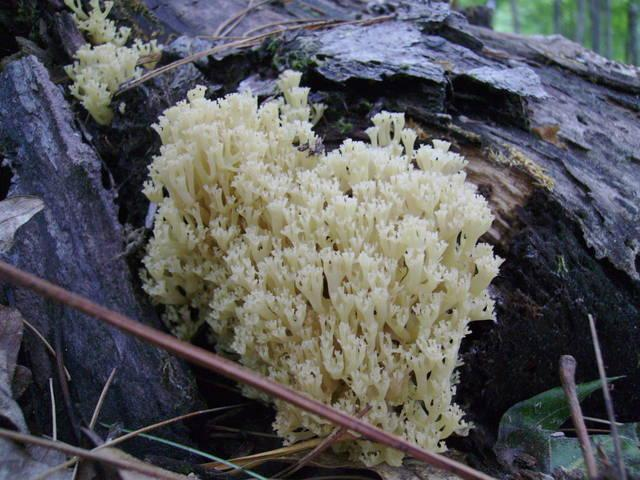Edible Mushroom: (138, 67, 506, 467), (62, 0, 155, 123)
